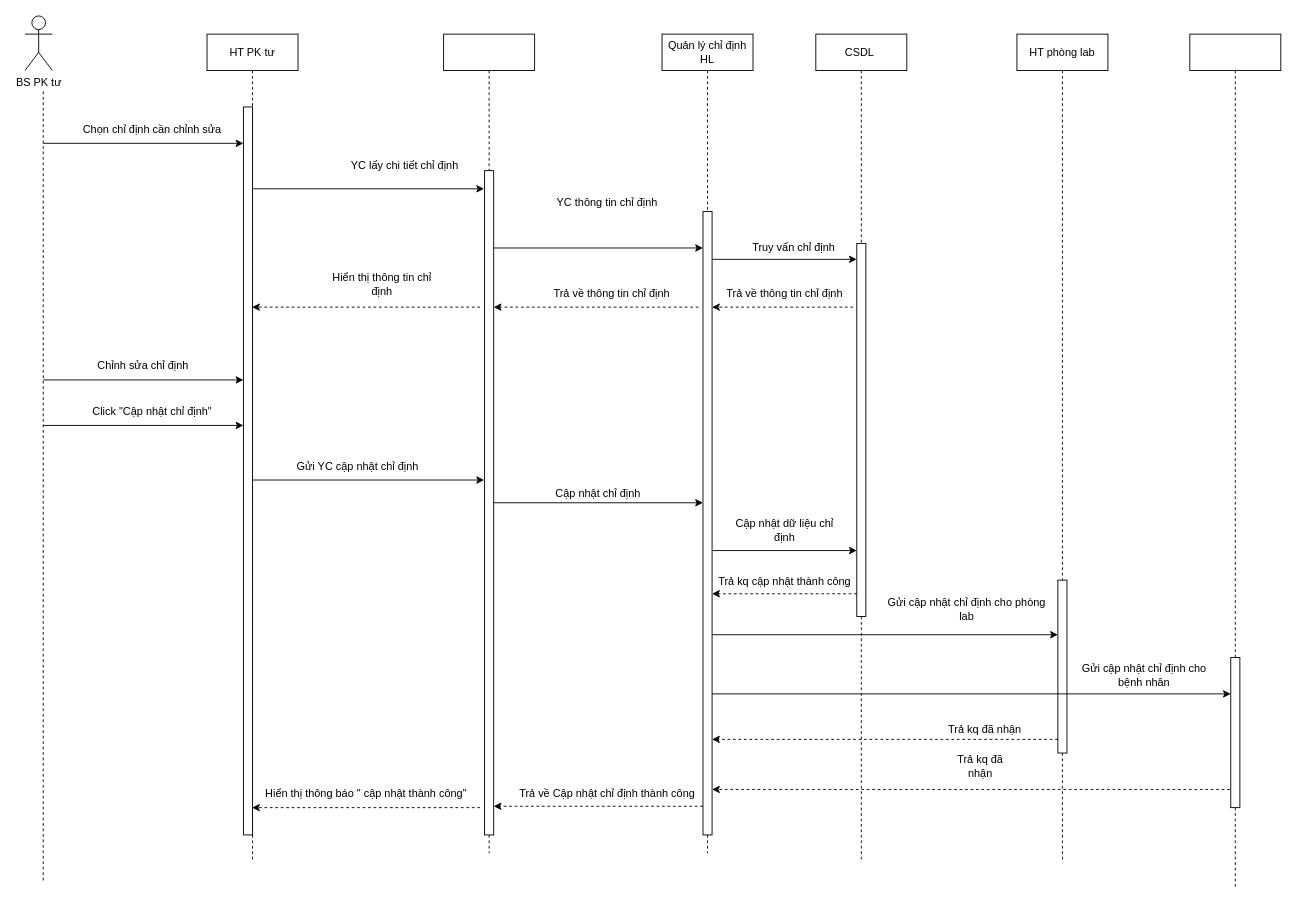
This 1297x905 diagram has some shape labels left out. Here are the shapes that lost their labels. From the top down, the box of each, then its label:
(443, 33, 535, 853): HL Clinic
(1189, 33, 1281, 890): HT tb cho bệnh nhân
